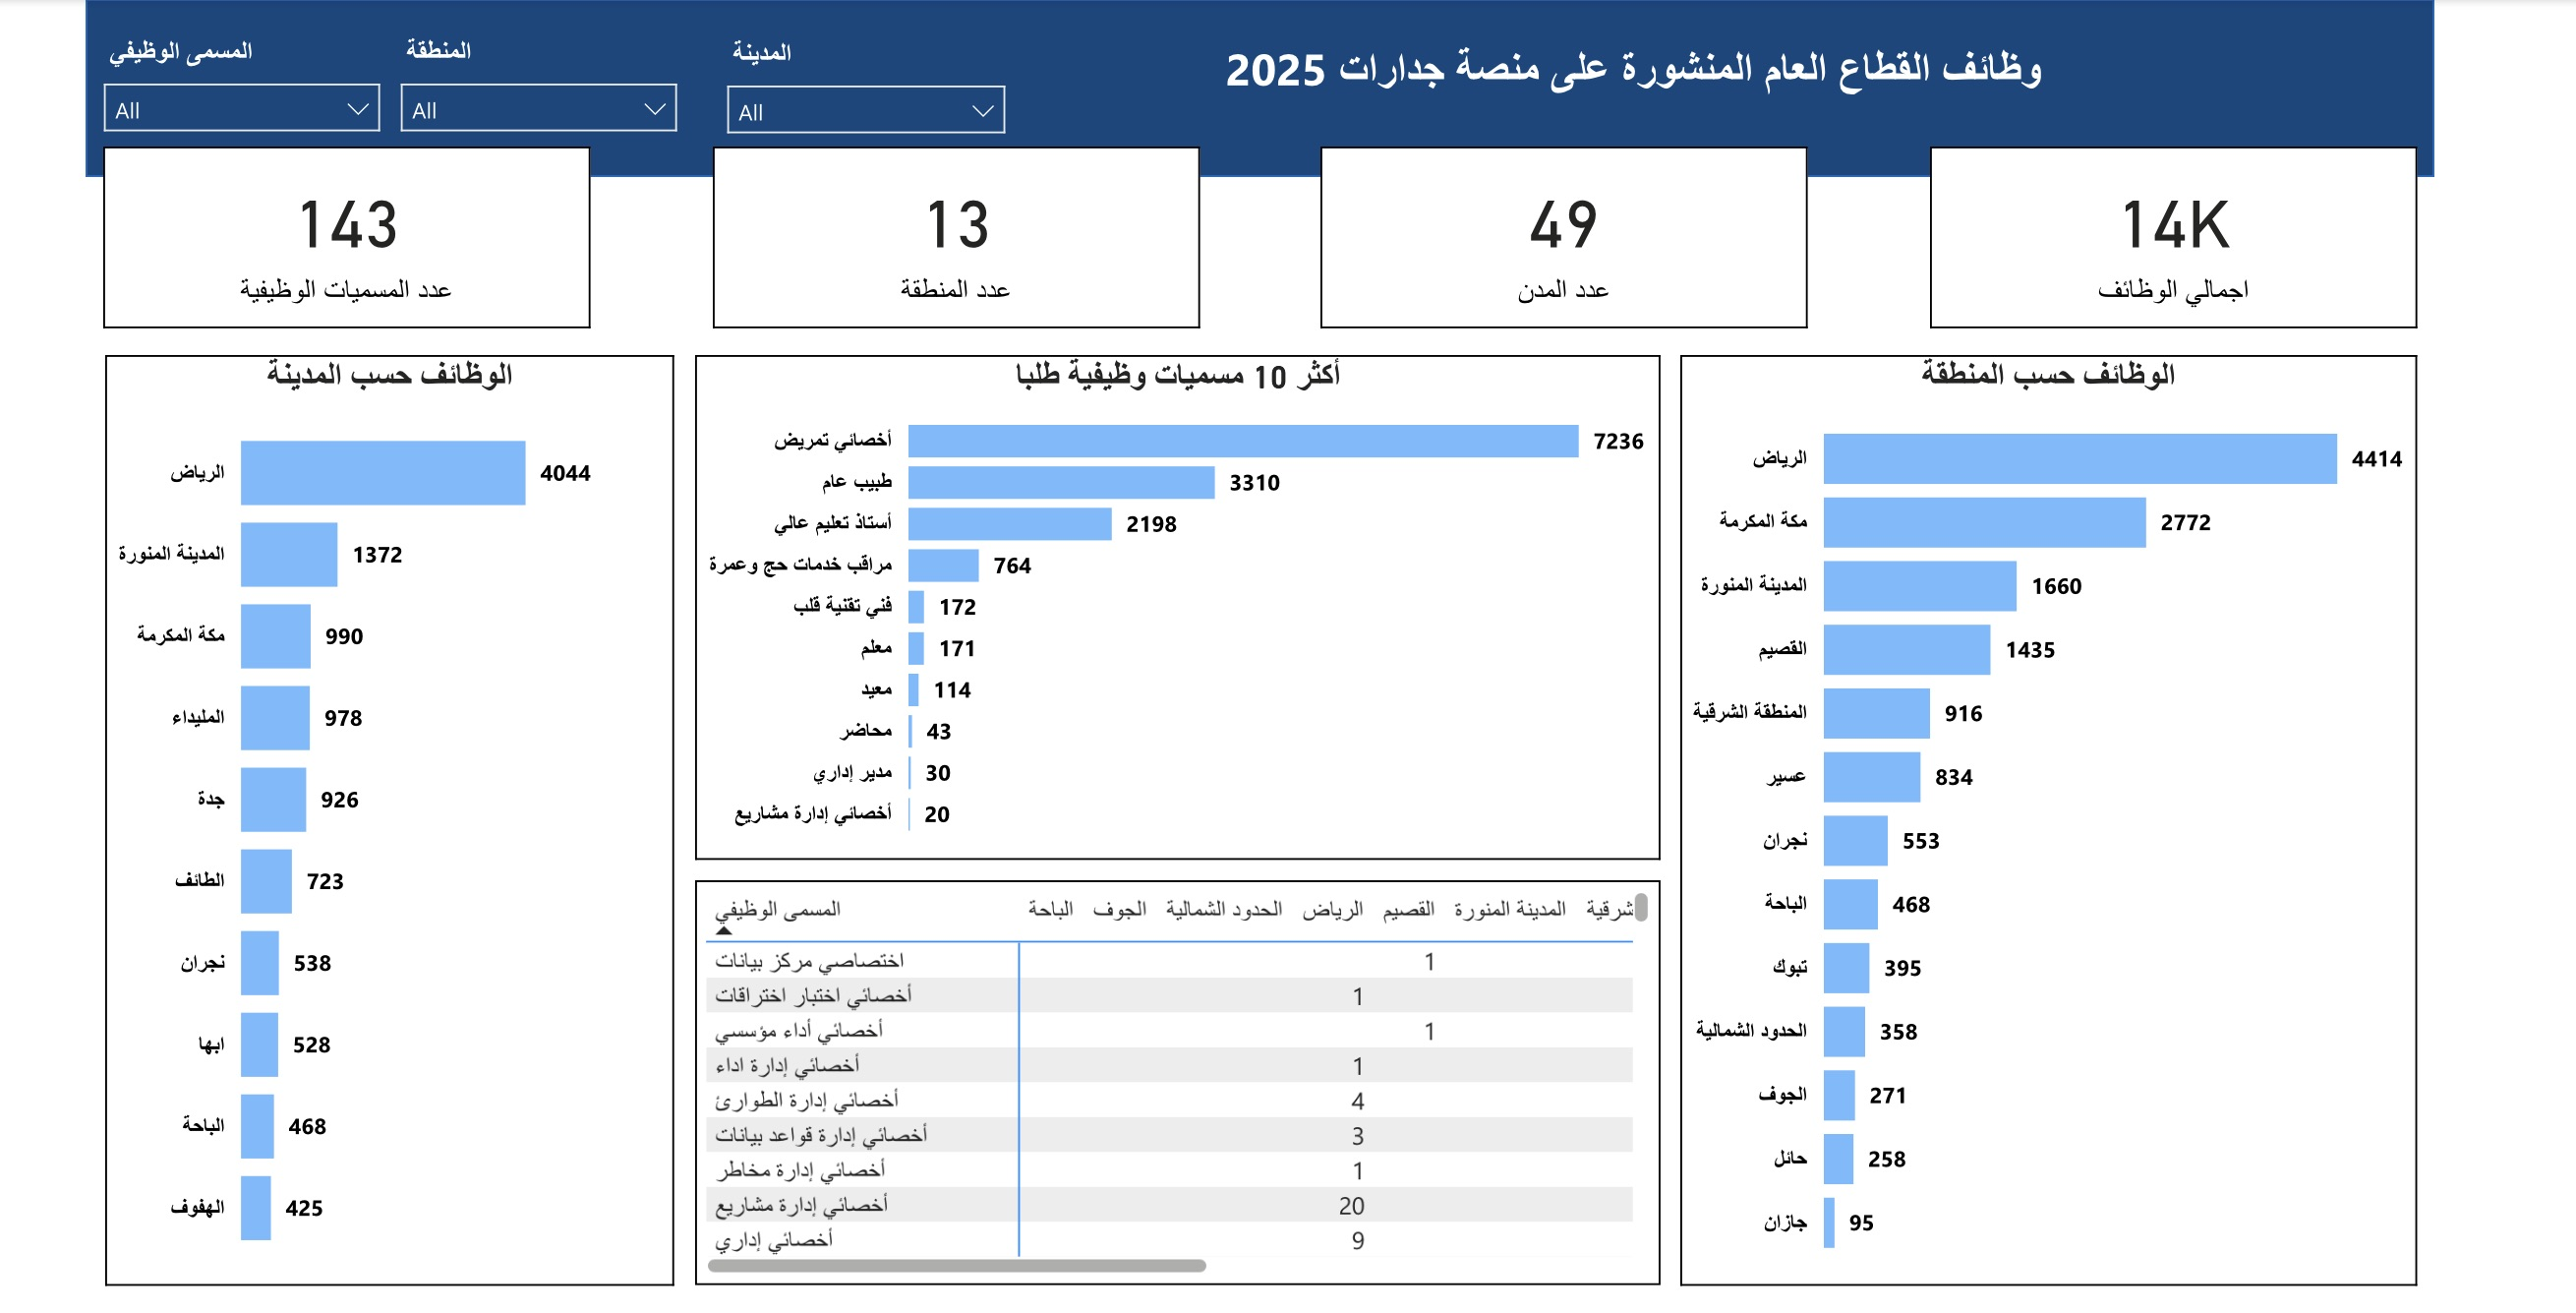

This screenshot's page, from the dashboard's own definition file:
{"tool":"powerbi","page":{"name":"Page 1","canvas":[1280,720],"ordinal":0},"visuals":[{"type":"shape","box":[0,0,1279.8,97],"z":0},{"type":"textbox","box":[615.7,16.2,580.4,63.2],"z":1000},{"type":"card","fields":{"Values":["Mesures Table.Total Jobs"]},"box":[1004.5,80.6,265.4,99.1],"z":2000},{"type":"card","fields":{"Values":["Mesures Table.Total city"]},"box":[673,80.6,265.4,99.1],"z":3000},{"type":"card","fields":{"Values":["Mesures Table.Number of job titles"]},"box":[10.1,80.6,265.4,99.1],"z":4000},{"type":"card","fields":{"Values":["Mesures Table.عدد القطاع"]},"box":[341.6,80.6,265.4,99.1],"z":5000},{"type":"clusteredBarChart","title":"الوظائف حسب المنطقة","fields":{"Y":["Mesures Table.Total Jobs"],"Category":["Sheet1.المنطقة "]},"box":[868.4,194,401.1,506.9],"z":6000},{"type":"clusteredBarChart","title":"أكثر 10 مسميات وظيفية طلبا","fields":{"Category":["Sheet1.المسمى الوظيفي"],"Y":["Mesures Table.Total Jobs"]},"box":[332.1,194,526,274.8],"z":7000},{"type":"clusteredBarChart","title":"الوظائف حسب المدينة","fields":{"Category":["Sheet1.المدينة"],"Y":["Mesures Table.Total Jobs"]},"box":[10.3,194,310,506.9],"z":8000},{"type":"pivotTable","fields":{"Rows":["Sheet1.المسمى الوظيفي"],"Columns":["Sheet1.المنطقة "],"Values":["Mesures Table.Total Jobs"]},"box":[332.1,480.5,526,220.4],"z":9000},{"type":"slicer","fields":{"Values":["Sheet1.المسمى الوظيفي"]},"box":[0,16.2,170.4,64.7],"z":10000},{"type":"slicer","fields":{"Values":["Sheet1.المنطقة "]},"box":[161.6,16.2,170.4,64.7],"z":11000},{"type":"slicer","fields":{"Values":["Sheet1.المدينة"]},"box":[339.3,16.8,171.3,63.8],"z":12000}]}

Visuals, with their boxes in screenshot pixels (x1, y1, x2, y2):
shape: box=[54, 0, 2443, 174]
textbox: box=[1203, 24, 2287, 142]
card - Mesures Table.Total Jobs: box=[1929, 144, 2425, 328]
card - Mesures Table.Total city: box=[1311, 144, 1806, 328]
card - Mesures Table.Number of job titles: box=[73, 144, 568, 328]
card - Mesures Table.عدد القطاع: box=[691, 144, 1187, 328]
"الوظائف حسب المنطقة" clusteredBarChart: box=[1675, 356, 2424, 1302]
"أكثر 10 مسميات وظيفية طلبا" clusteredBarChart: box=[673, 356, 1656, 868]
"الوظائف حسب المدينة" clusteredBarChart: box=[73, 356, 652, 1302]
pivotTable - Sheet1.المسمى الوظيفي x Sheet1.المنطقة : box=[673, 891, 1656, 1302]
slicer - Sheet1.المسمى الوظيفي: box=[54, 24, 372, 145]
slicer - Sheet1.المنطقة : box=[355, 24, 673, 145]
slicer - Sheet1.المدينة: box=[687, 25, 1007, 144]
